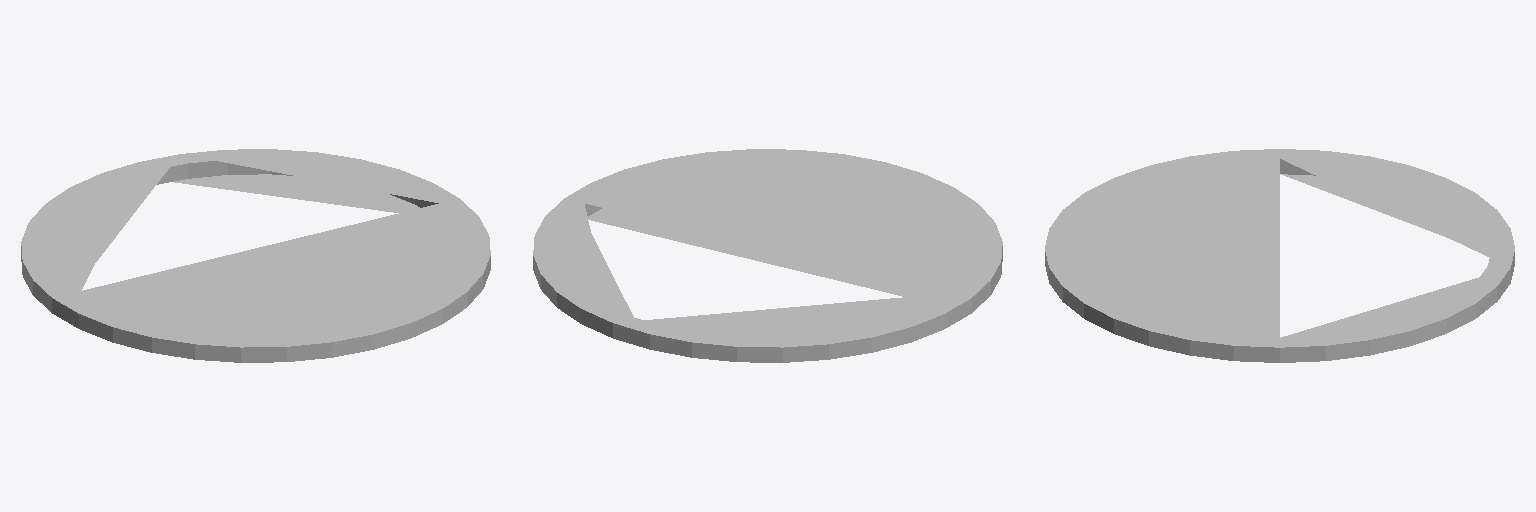
The model's file is Gold Ring.obj.
3 views of the same model, side by side, from view 1: azimuth 30°, elevation 25°; view 2: azimuth 150°, elevation 25°; view 3: azimuth 270°, elevation 25° (orthographic).
Parts seen in each view (by area): view 1: Cylinder.001; view 2: Cylinder.001; view 3: Cylinder.001.
Part boxes in pixels (left/top/right/bottom): Cylinder.001: left=21, top=149, right=490, bottom=362; Cylinder.001: left=533, top=149, right=1002, bottom=362; Cylinder.001: left=1045, top=149, right=1514, bottom=362.
Size of the model in its own units: 1.95 by 0.0705 by 1.95.